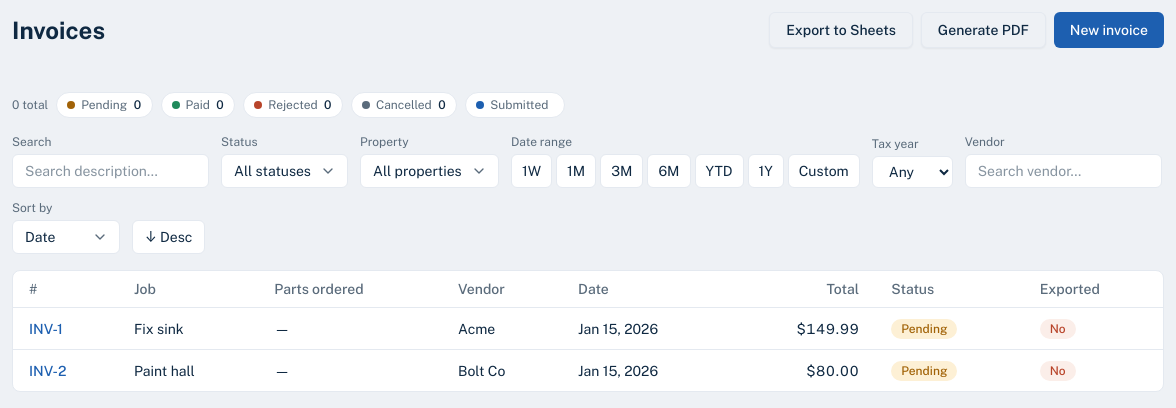
Test case: InvoiceList — PDF selection mode › enters selection mode with checkboxes, counter, disabled Confirm at 0, and hint
This screenshot has width=1176, height=408.
Expected: the link "INV-1" is shown, [29, 320, 63, 336]
Click the button "Generate PDF" at (983, 30), box [921, 12, 1046, 48]
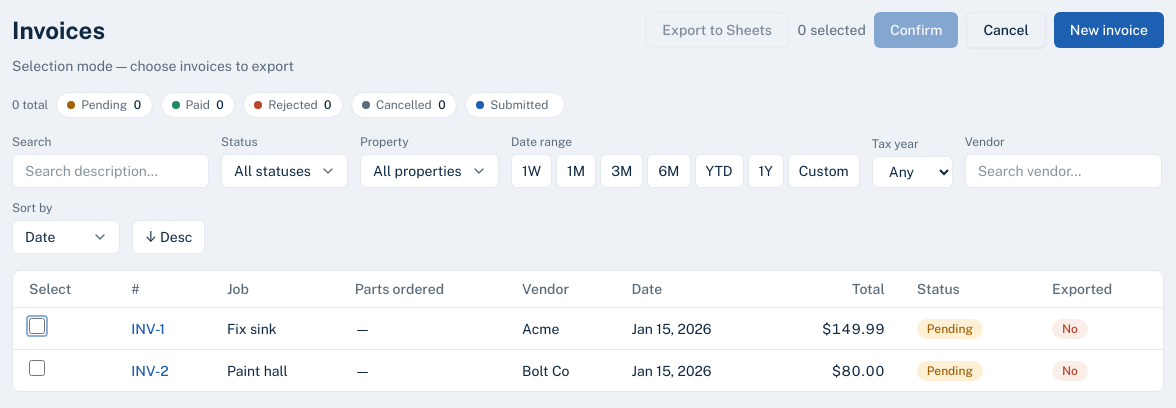
Expected: the checkbox named "Select invoice INV-1 — Acme" is shown, [29, 318, 45, 334]
Expected: the number of checkboxes is 2, [29, 318, 45, 334]; [29, 360, 45, 376]
Expected: the text "0 selected" is shown, [797, 20, 866, 40]
